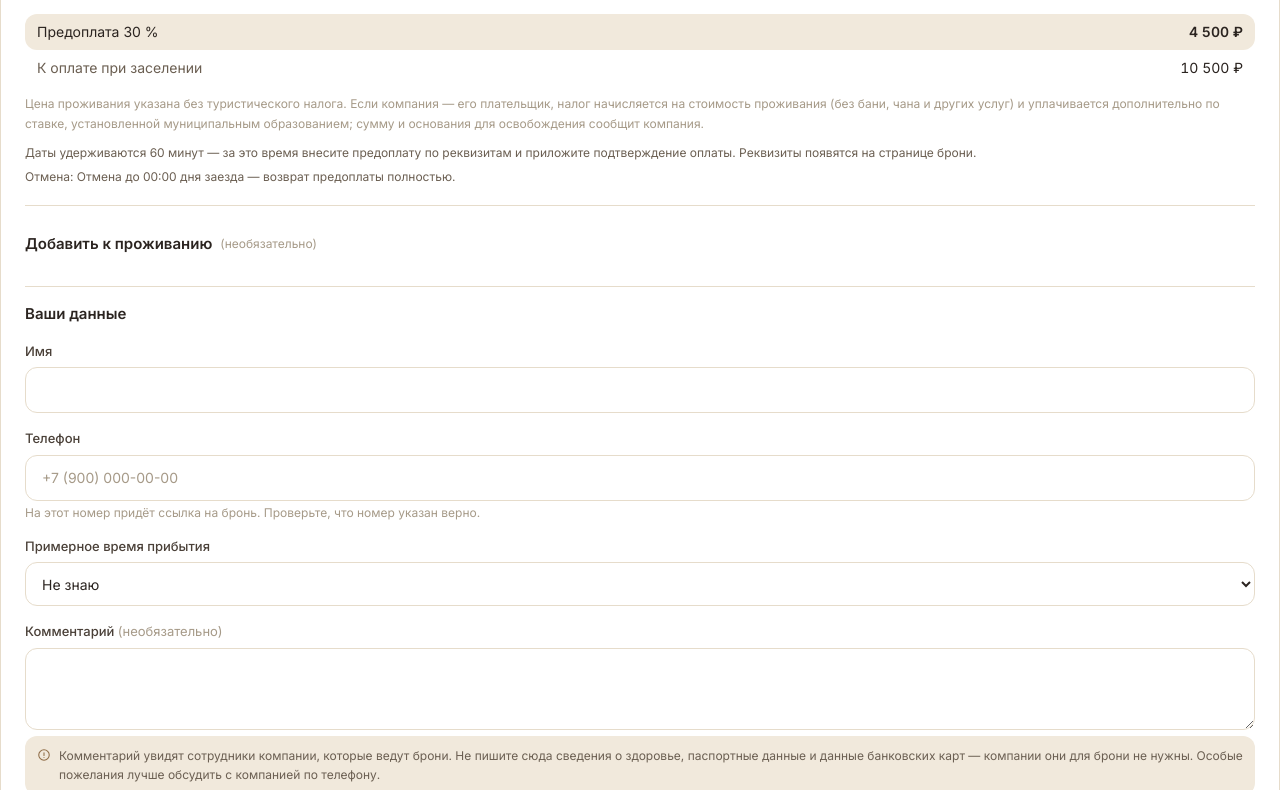
Test case: BookingPanel › dates taken meanwhile: the server text is shown and the dates start over
(page scrolled)
In the field labelled "Имя": {"x": 640, "y": 390} [25,367,1255,413], type "Анна"
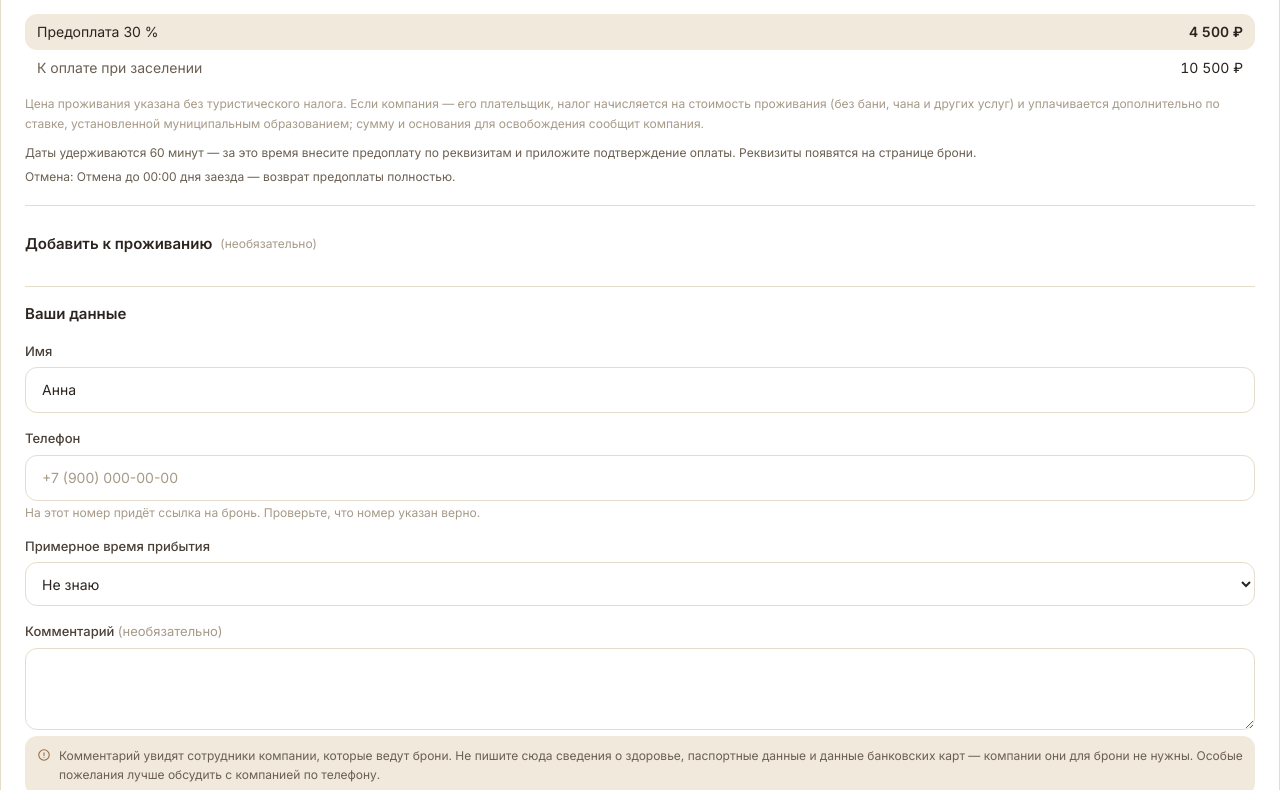
In the field labelled "Телефон": {"x": 640, "y": 478} [25,454,1255,500], type "9001234567"
(page scrolled)
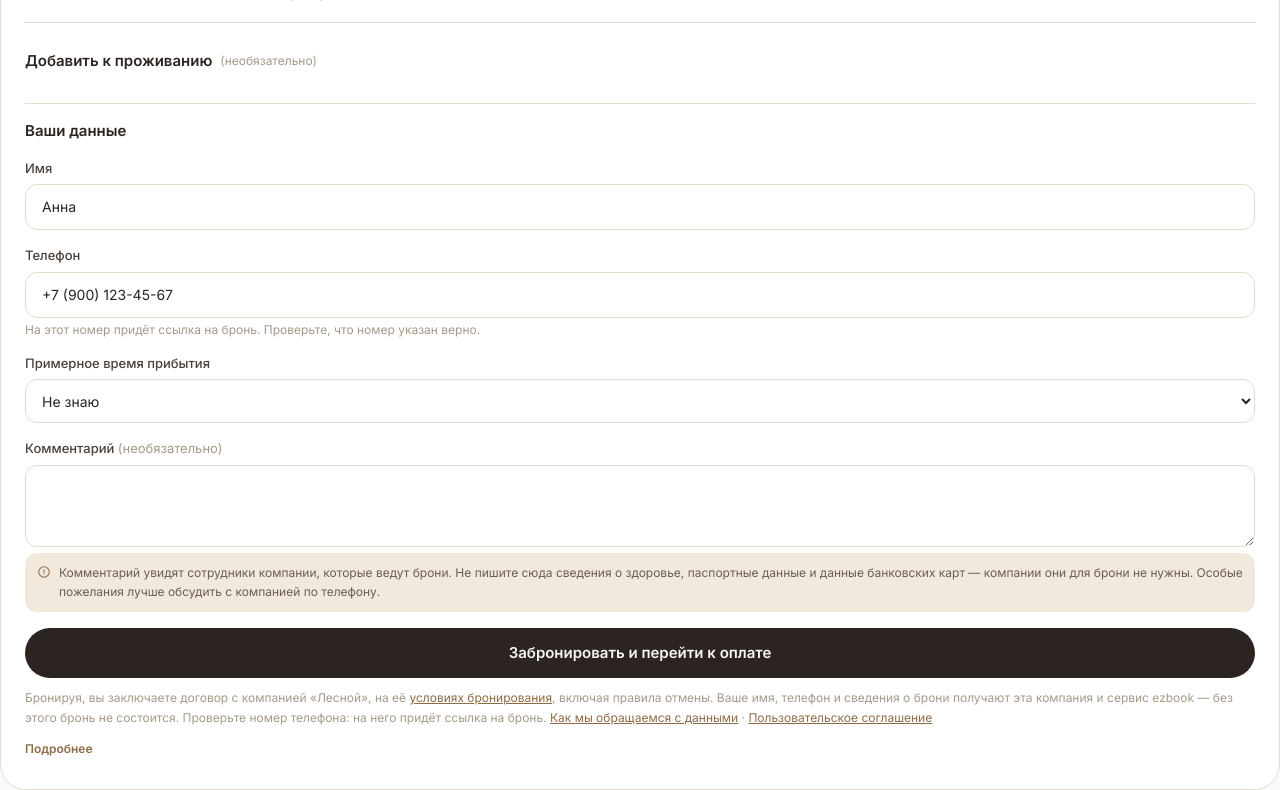
Click the button "Забронировать и перейти к оплате": {"x": 640, "y": 653} [25,628,1255,678]
(page scrolled)
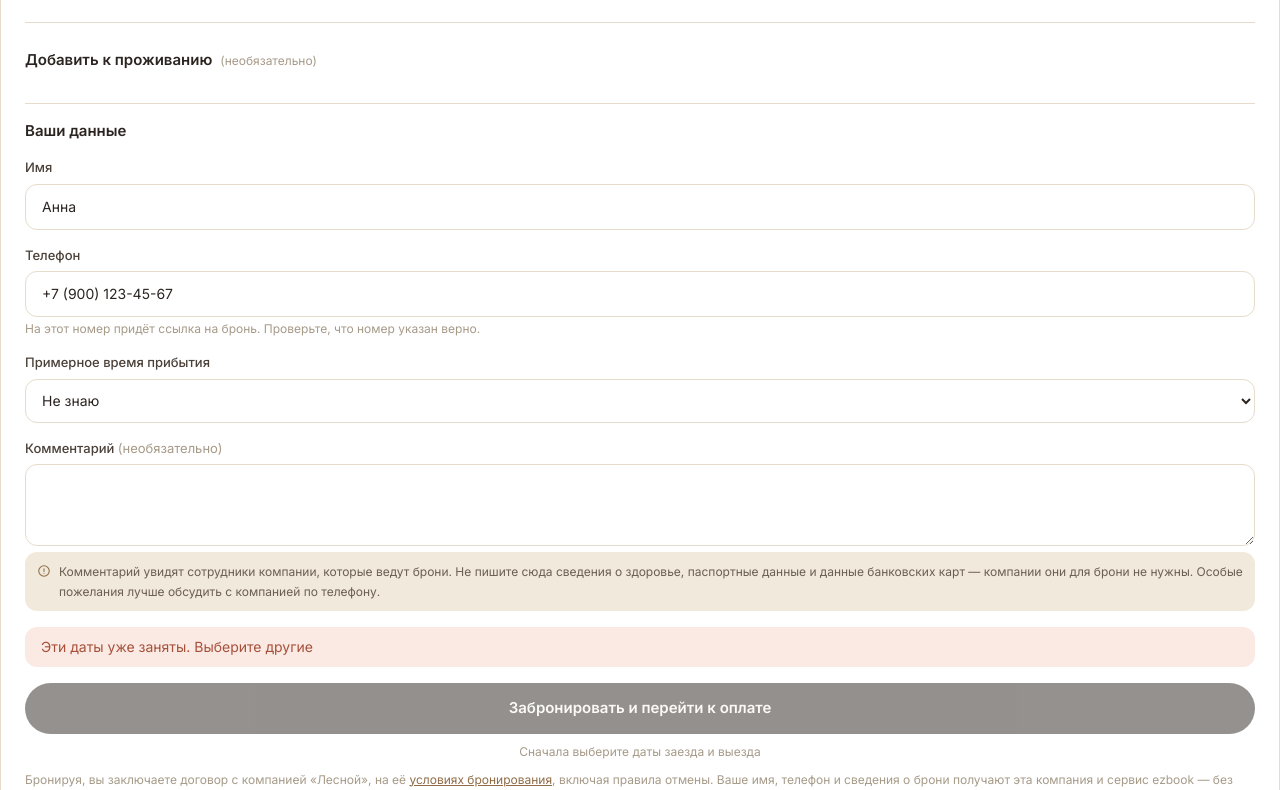
Result: the text "Эти даты уже заняты. Выберите другие" is shown at [25,627,1255,667]
